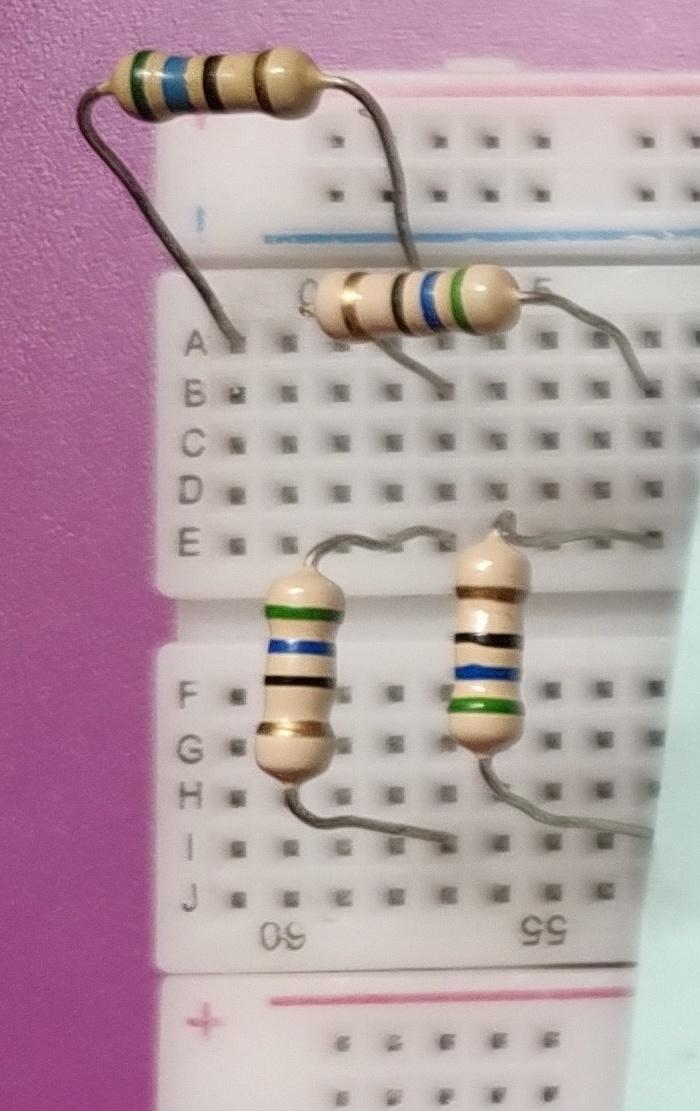resistor: (105, 20, 340, 152), (295, 242, 532, 365), (435, 520, 540, 762), (238, 565, 348, 792)
